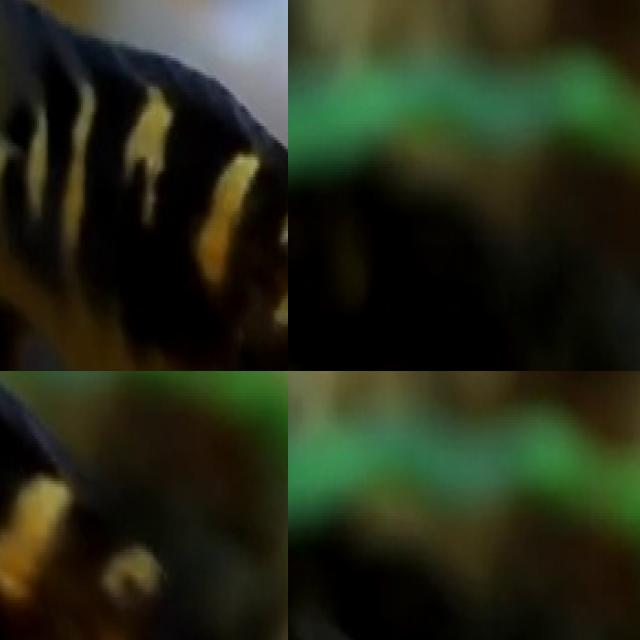fish: (0, 0, 288, 371), (0, 371, 281, 640)
